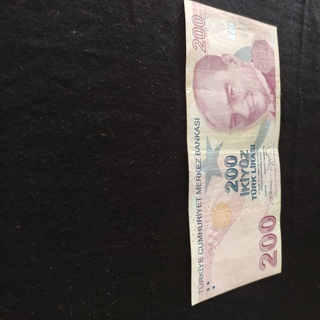200TLFront: (182, 0, 282, 306)
